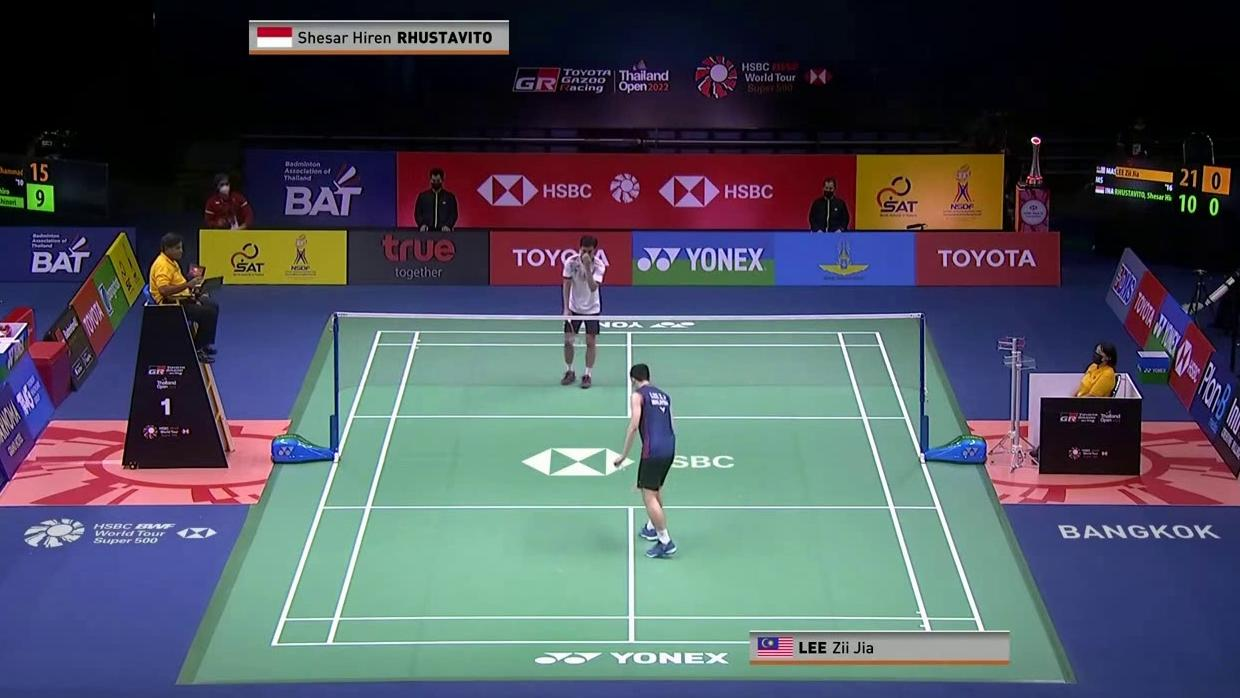racket: (560, 311, 583, 348)
shuttle: (611, 461, 627, 472)
